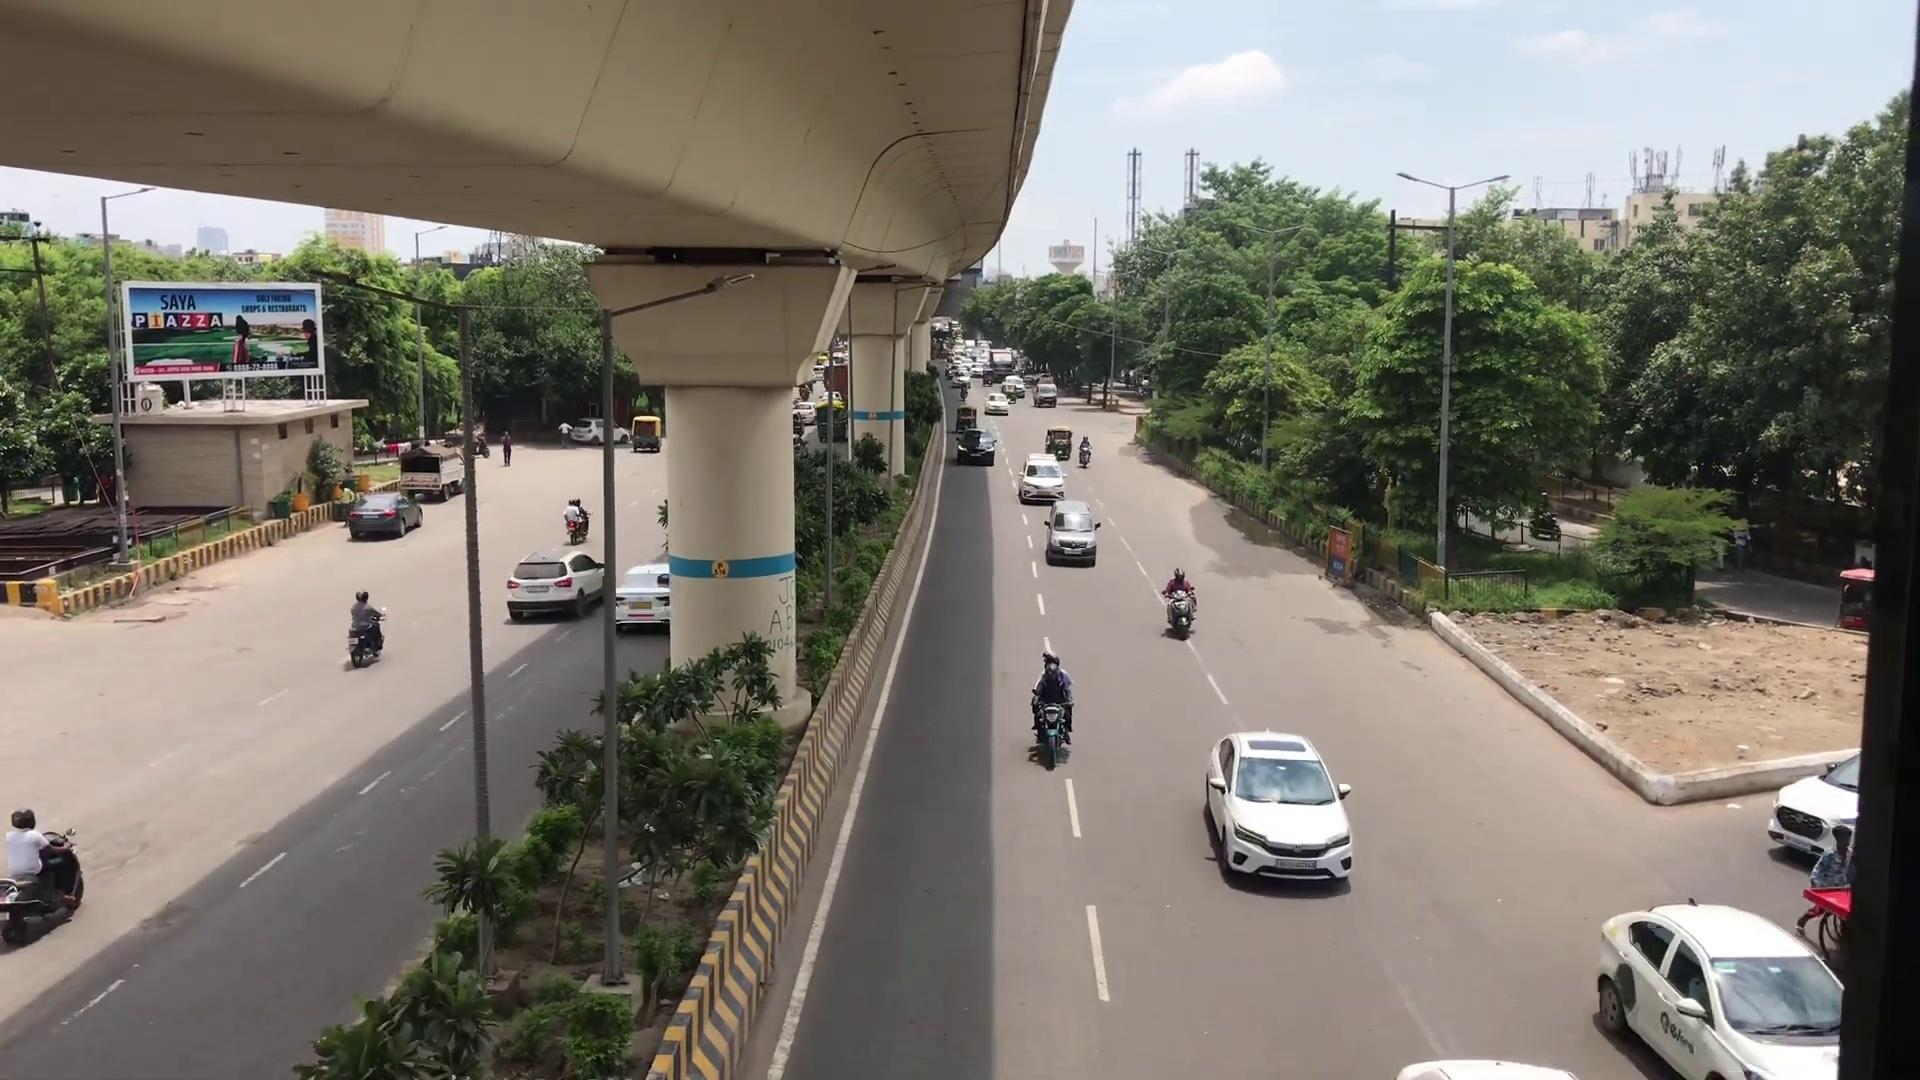Bike: (0, 796, 98, 949), (1030, 638, 1073, 770), (344, 579, 388, 669), (1163, 563, 1197, 638)
Car: (1596, 897, 1842, 1080), (1205, 728, 1353, 887), (1044, 493, 1102, 564), (1019, 440, 1067, 506)
